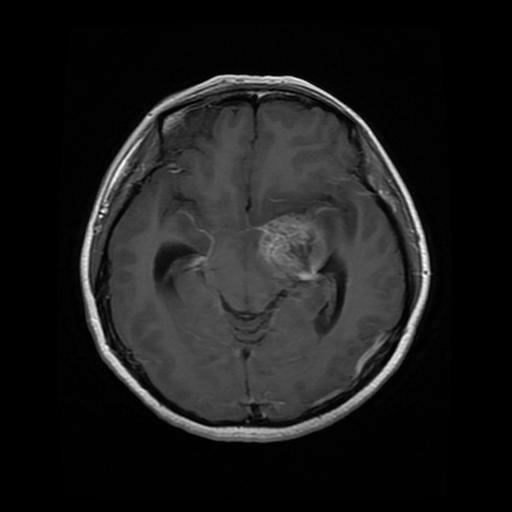Tumour-Glioma: (247, 211, 340, 293)
